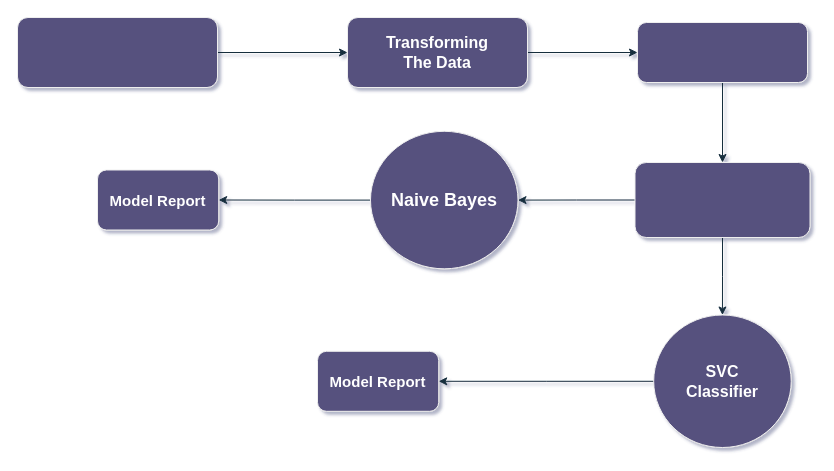
This 834x471 diagram has some shape labels left out. The box of each missing label's shape, as (x1, y1, x2, y2) in pixels:
CoRelation Graph: (636, 22, 808, 82)
DataSet Split: (634, 162, 810, 238)
Diabetes DataSet: (16, 16, 218, 88)
